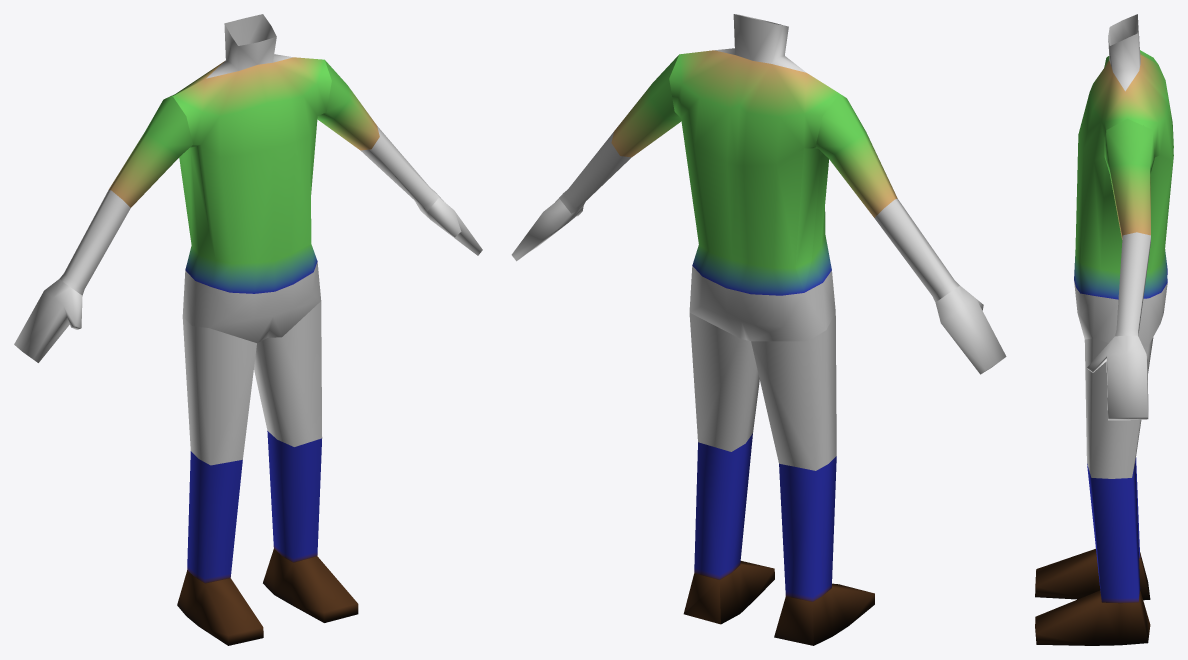
The model's file is CSCI375 low poly mesh3.fbx.
The picture shows the model from 3 angles, left to right: view 1: azimuth 30°, elevation 25°; view 2: azimuth 150°, elevation 25°; view 3: azimuth 270°, elevation 25°; orthographic projection. The views are drawn at different scales.
Parts seen in each view (by area): view 1: Torso, Leg.R, Leg.L, Pelvis, Knee.R, Knee.L, Arm.R, Foot.L, Foot.R, Hand.R, Forearm.R, Neck (+3 smaller); view 2: Torso, Leg.R, Leg.L, Knee.R, Pelvis, Knee.L, Arm.R, Foot.R, Foot.L, Hand.R, Arm.L, Forearm.R (+3 smaller); view 3: Torso, Knee.L, Foot.L, Leg.L, Arm.L, Hand.L, Foot.R, Pelvis, Forearm.L, Neck.
Boxes of the visible parts, left/top/right/bottom form: Torso: left=165, top=57, right=331, bottom=293; Leg.R: left=182, top=317, right=256, bottom=465; Leg.L: left=254, top=301, right=322, bottom=446; Pelvis: left=182, top=262, right=321, bottom=342; Knee.R: left=187, top=451, right=242, bottom=583; Knee.L: left=267, top=431, right=321, bottom=562; Arm.R: left=109, top=97, right=192, bottom=207; Foot.L: left=263, top=549, right=358, bottom=622; Foot.R: left=177, top=570, right=263, bottom=645; Hand.R: left=14, top=279, right=82, bottom=362; Forearm.R: left=59, top=190, right=130, bottom=295; Neck: left=206, top=14, right=292, bottom=78; Torso: left=669, top=50, right=839, bottom=295; Leg.R: left=751, top=313, right=836, bottom=470; Leg.L: left=689, top=313, right=759, bottom=451; Knee.R: left=779, top=456, right=836, bottom=601; Pelvis: left=689, top=266, right=835, bottom=341; Knee.L: left=694, top=433, right=752, bottom=579; Arm.R: left=815, top=93, right=897, bottom=217; Foot.R: left=774, top=583, right=874, bottom=645; Foot.L: left=683, top=561, right=774, bottom=624; Hand.R: left=935, top=285, right=1006, bottom=374; Arm.L: left=611, top=55, right=681, bottom=157; Forearm.R: left=874, top=198, right=959, bottom=302; Torso: left=1074, top=50, right=1173, bottom=299; Knee.L: left=1087, top=463, right=1140, bottom=603; Foot.L: left=1035, top=590, right=1150, bottom=645; Leg.L: left=1084, top=337, right=1153, bottom=478; Arm.L: left=1104, top=118, right=1154, bottom=239; Hand.L: left=1087, top=335, right=1148, bottom=420; Foot.R: left=1035, top=548, right=1150, bottom=600; Pelvis: left=1074, top=280, right=1167, bottom=346; Forearm.L: left=1115, top=232, right=1150, bottom=336; Neck: left=1108, top=14, right=1140, bottom=91.
Bounding box in the file's own units: 1153 × 1400 × 299.
